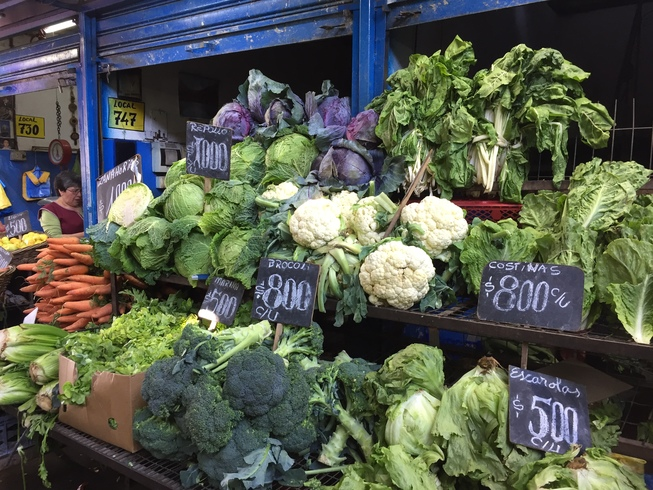precio: (479, 257, 595, 341), (505, 361, 594, 462), (252, 251, 315, 329), (94, 157, 148, 228), (192, 270, 247, 333), (186, 121, 238, 186), (4, 211, 29, 240)
